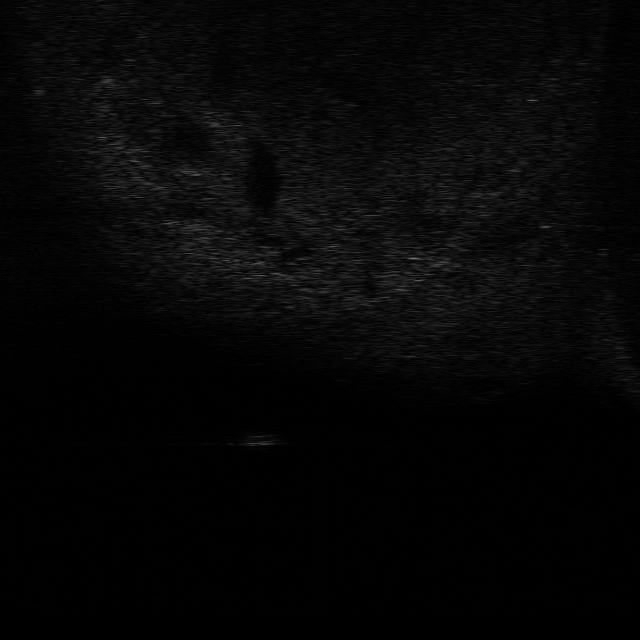cube: (236, 426, 284, 447)
